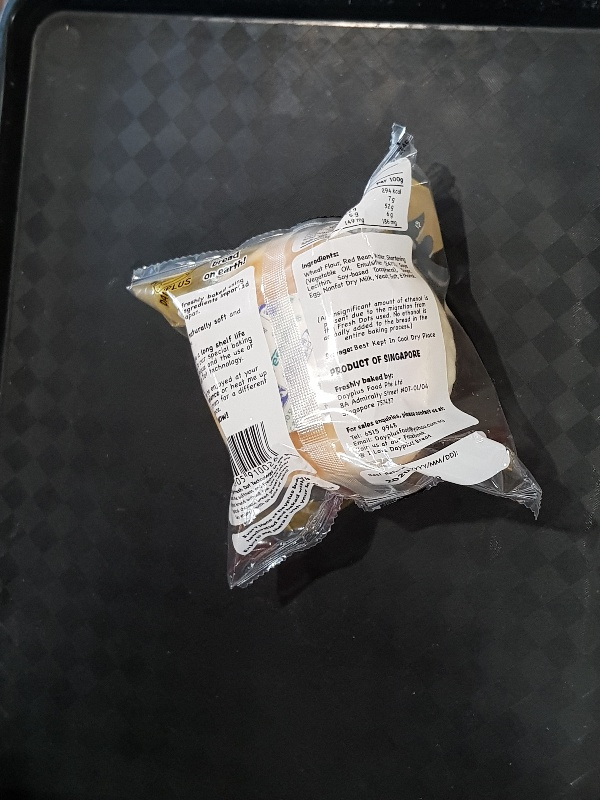Dayplus Red Bean: (123, 119, 541, 588)
